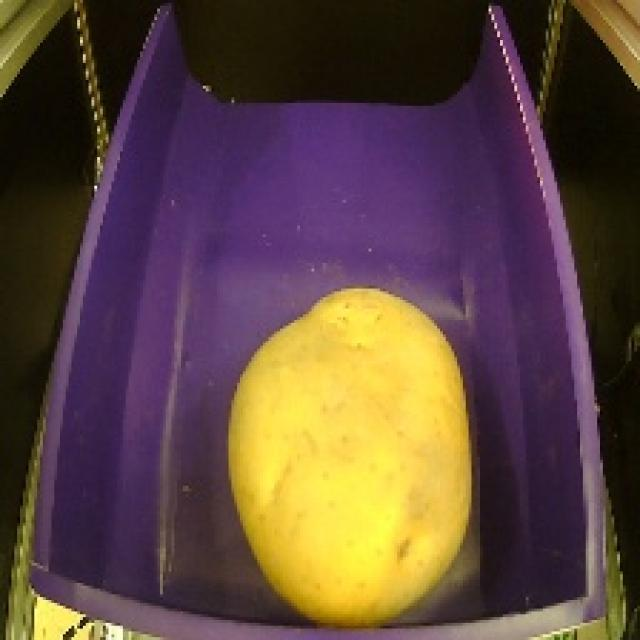full_potato: (212, 272, 490, 637)
